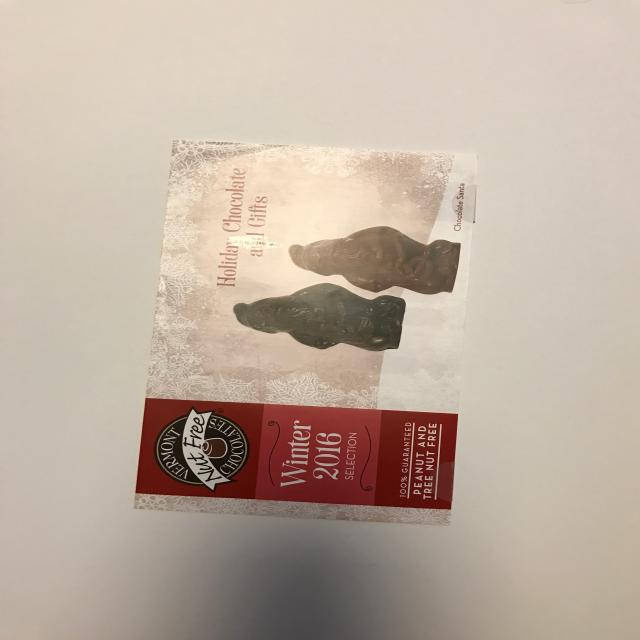paper: (112, 129, 500, 538)
